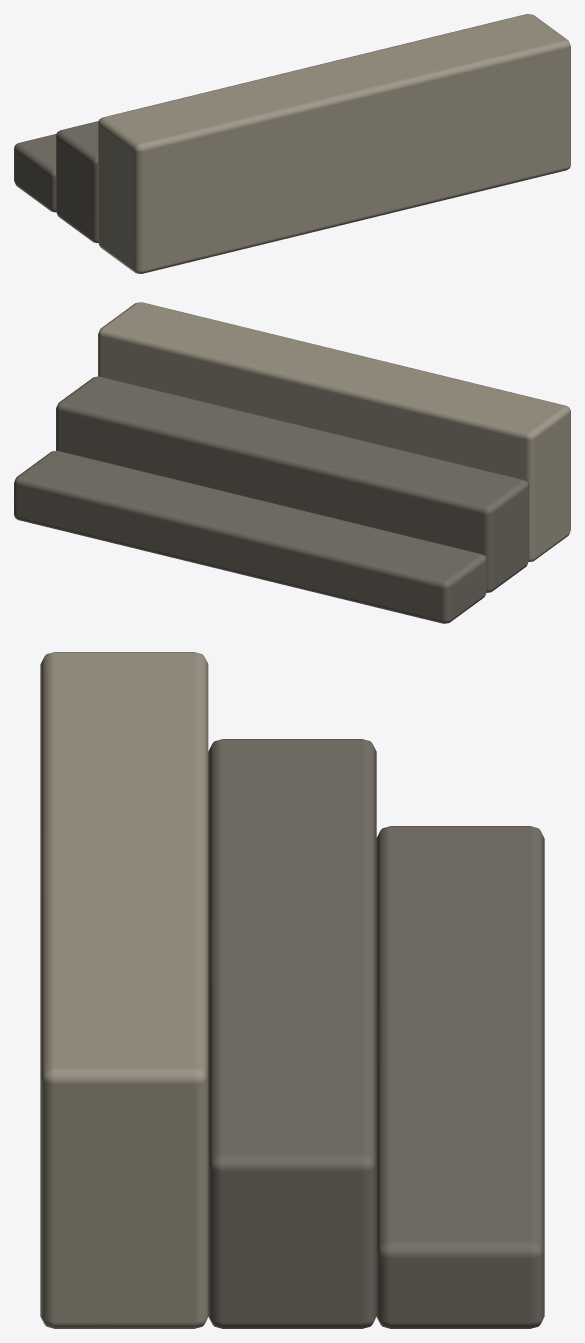
File: stone_steps.glb
3 views of the same model, one above another, from view 1: azimuth 30°, elevation 25°; view 2: azimuth 150°, elevation 25°; view 3: azimuth 270°, elevation 25° (orthographic). The views are drawn at different scales.
Parts seen in each view (by area): view 1: stone_steps; view 2: stone_steps; view 3: stone_steps.
Boxes of the visible parts, x1,y1,x2,y2 form: stone_steps: (14,14,570,273); stone_steps: (14,302,570,623); stone_steps: (40,652,544,1328).
Size of the model in its own units: 2.8 by 0.8 by 1.4.
1 material, 1 textured.
